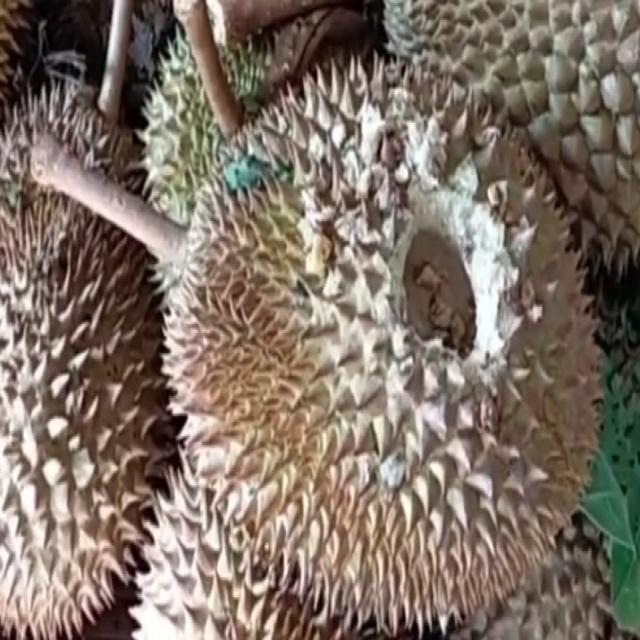defective: (158, 56, 606, 634)
